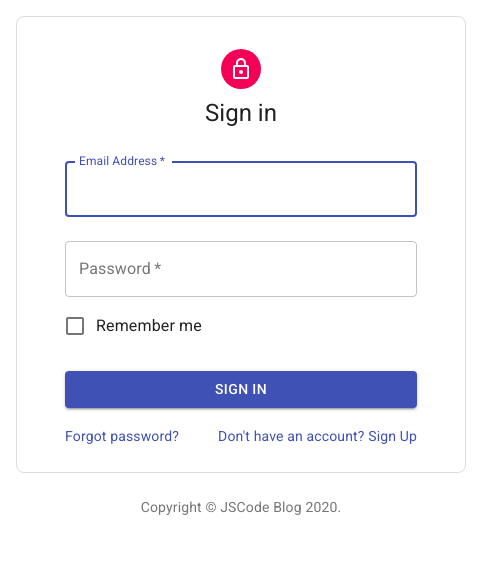
Login component › form validation › Password required error
Press Tab
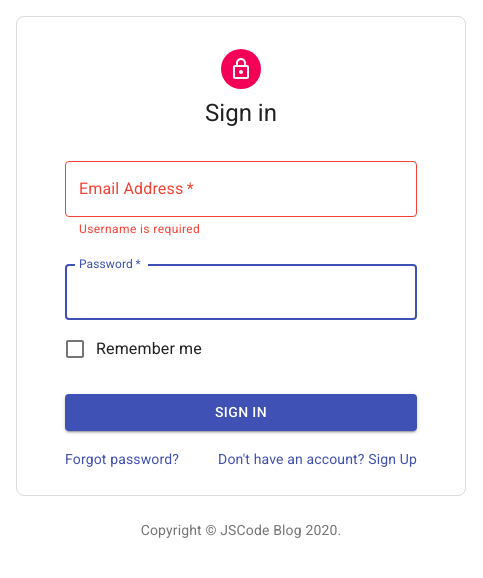
Expected: the text "Password is required" is not shown
Press Tab
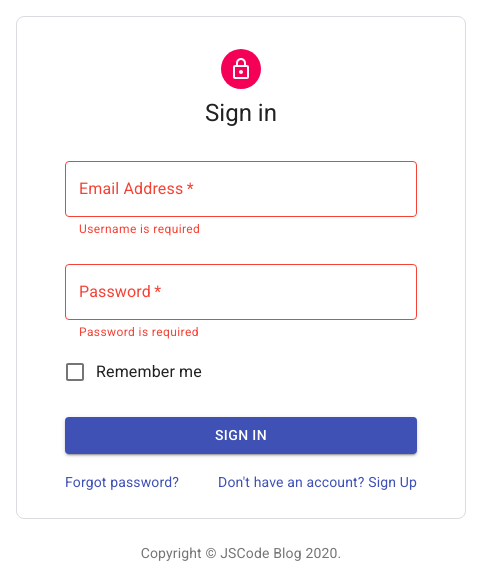
Result: the text "Password is required" is shown at [79,325,199,339]
Type "password" into the password field labelled "Password *".
click(241, 292); type("password")  # box [65,264,417,320]
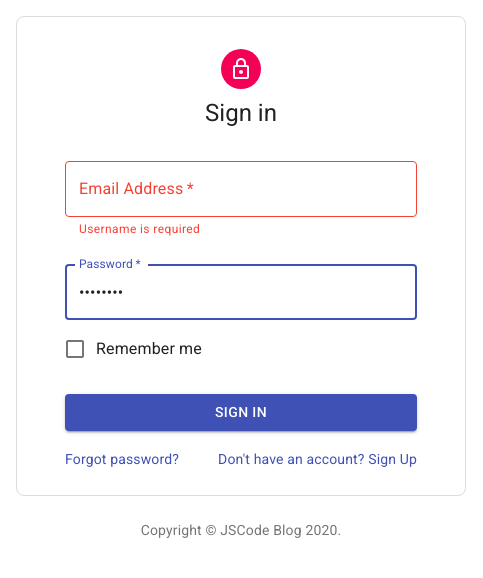
Result: the text "Password is required" is gone
